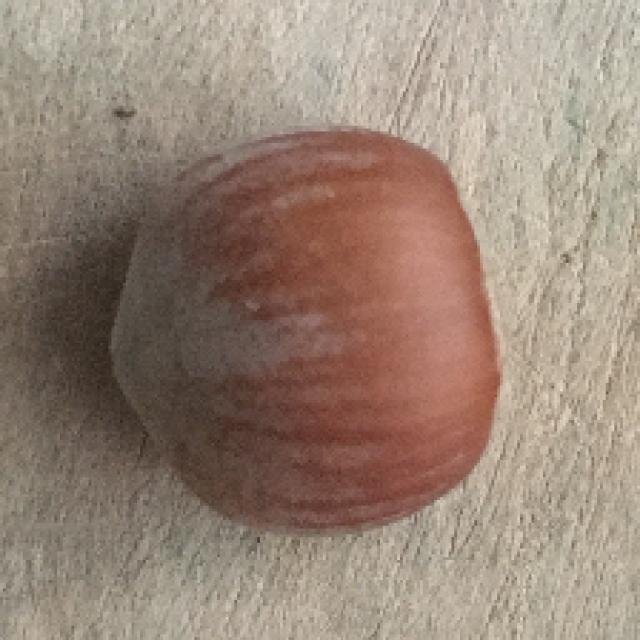qualityHazelnut: (90, 113, 516, 550)
